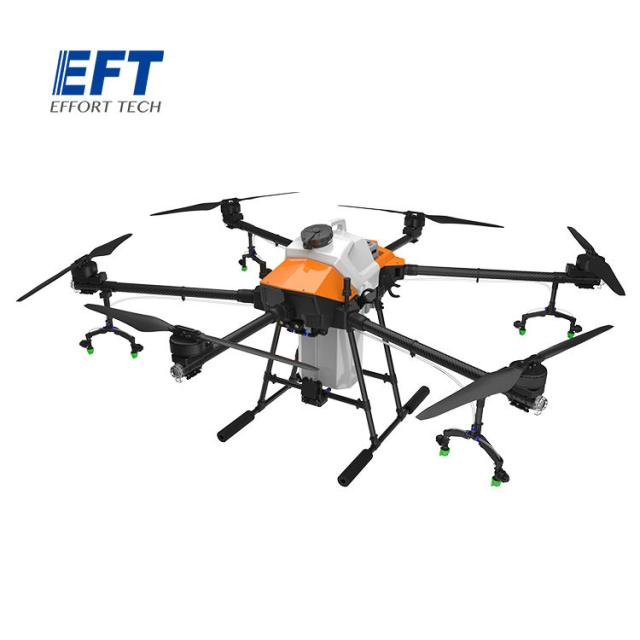drone: (46, 174, 640, 530)
